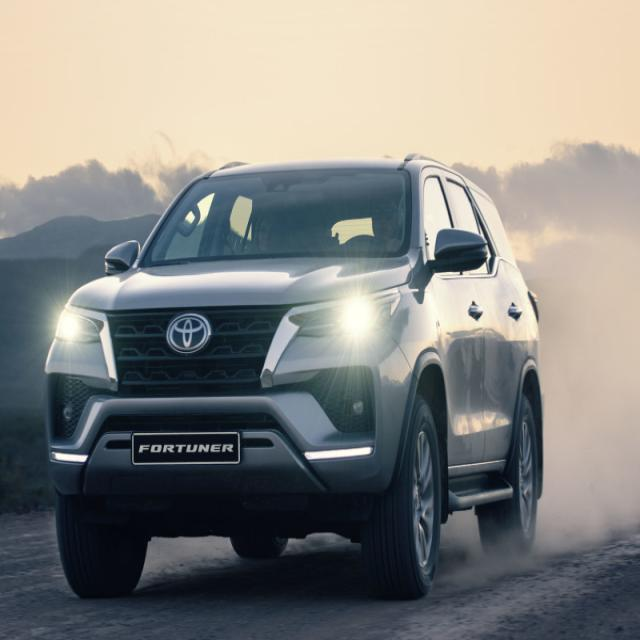light_vehicle: (43, 155, 545, 602)
